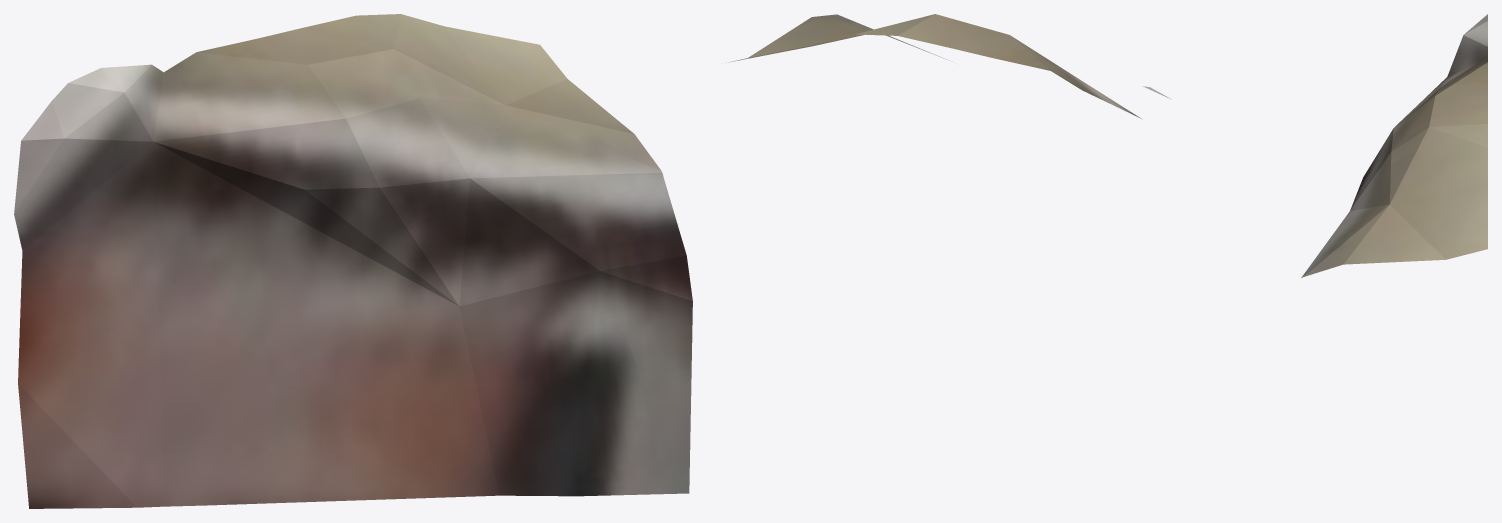
3 views of the same model, side by side, from view 1: azimuth 30°, elevation 25°; view 2: azimuth 150°, elevation 25°; view 3: azimuth 270°, elevation 25° (orthographic). The views are drawn at different scales.
Size of the model in its own units: 0.3184 by 0.2449 by 0.1601.
1 material, 1 textured.
